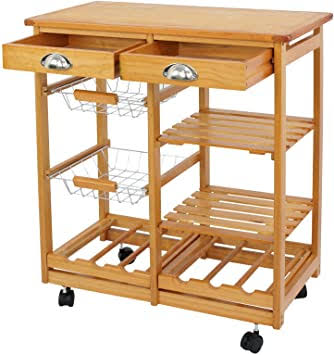Carts: (1, 1, 333, 355)
